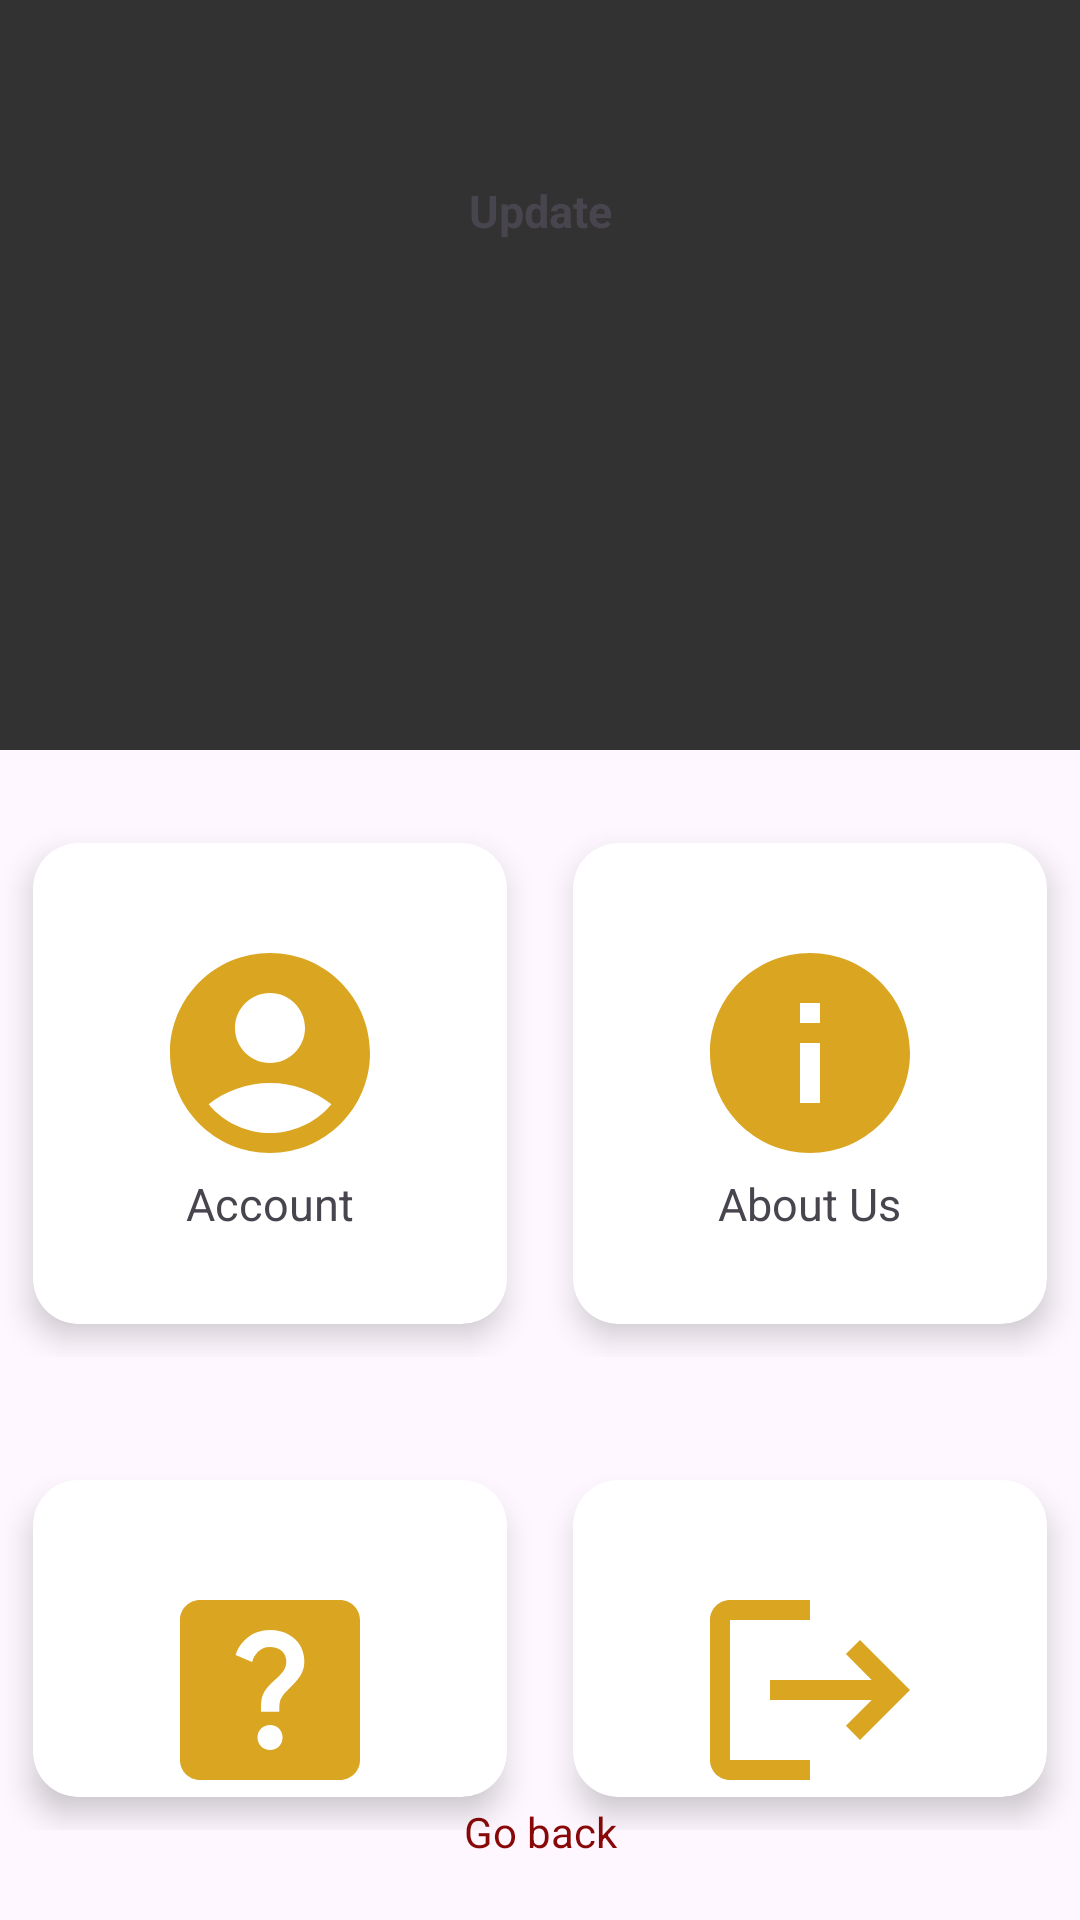

Icon bounding boxes for this 1080w x 1920h phone screenshot, format (x1, y1, x2, y2):
help center: (180, 1600, 360, 1780)
info: (710, 953, 910, 1153)
